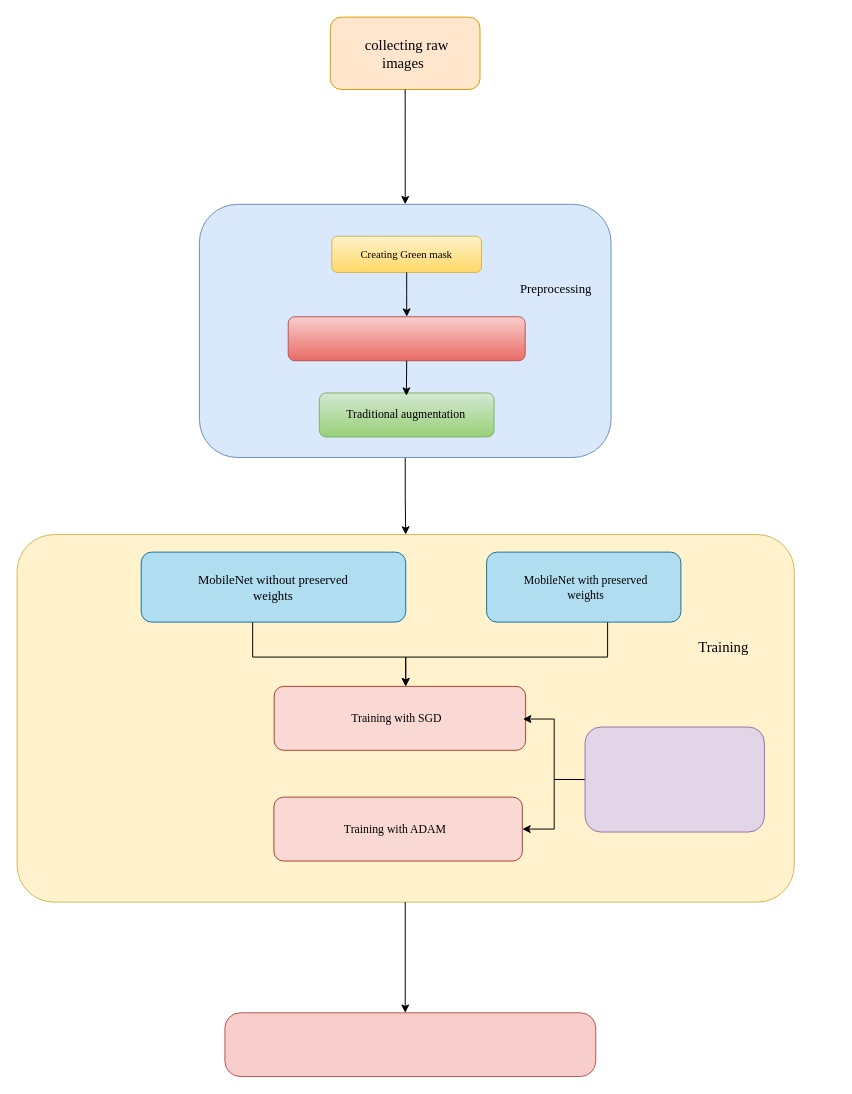
The diagram is 852 pixels wide and 1094 high, and some of its shapes have lost their labels. The box of each missing label's shape, as (x1, y1, x2, y2) in pixels:
changing background to black: (287, 316, 525, 361)
Evaluating models with different metrices: (224, 1012, 596, 1077)
Learning adaption with ReduceLROnPlateau: (584, 726, 764, 832)
